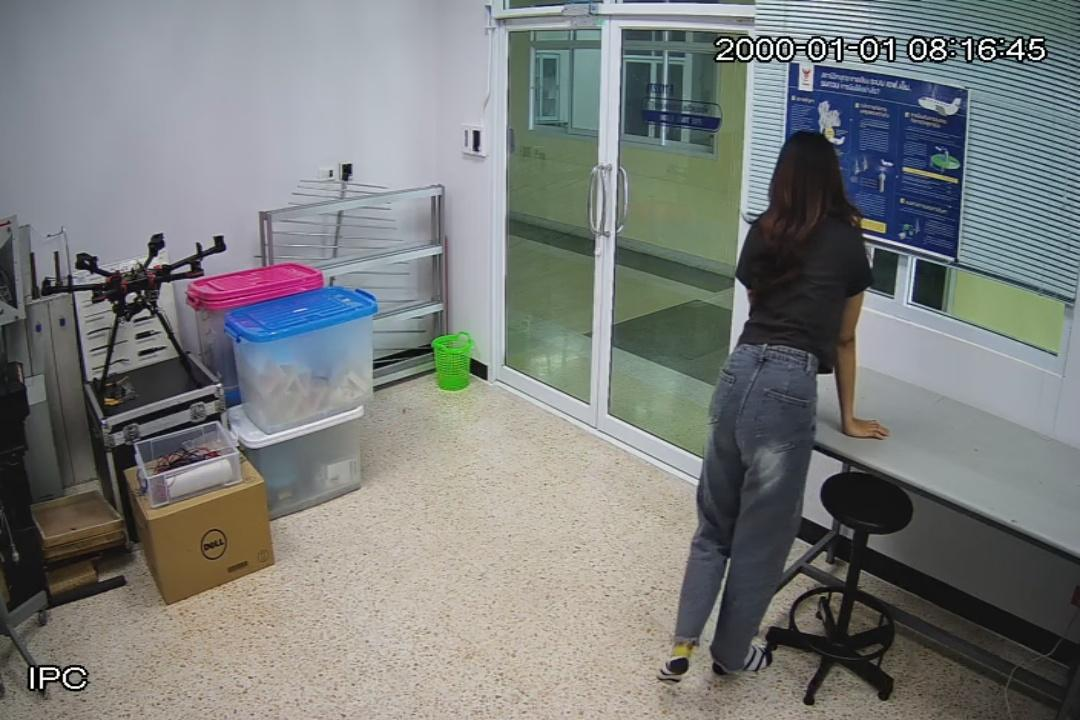normal: (652, 125, 889, 690)
